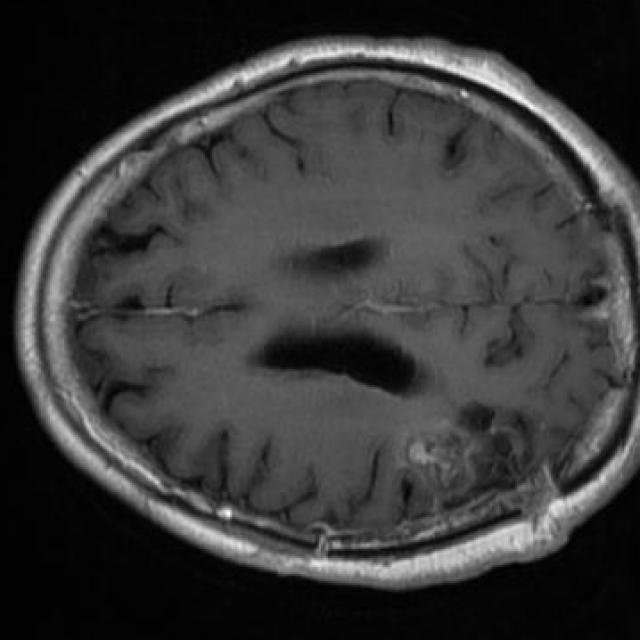glioma: (399, 424, 521, 501)
